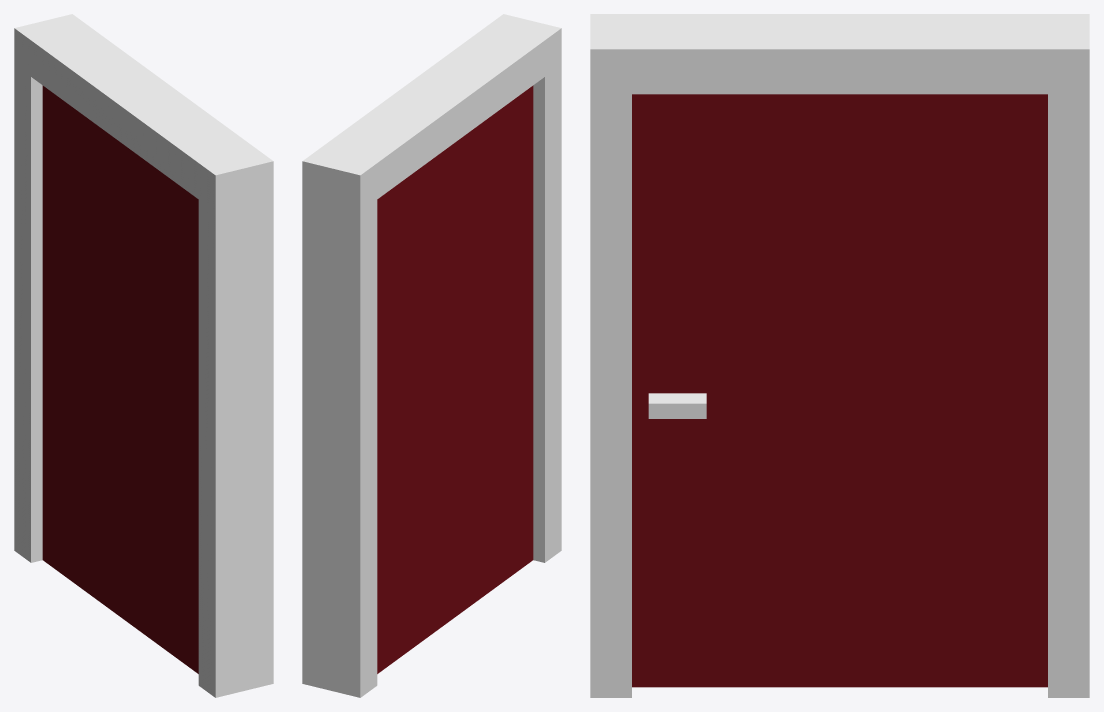
The model's file is door.fbx.
The picture shows the model from 3 angles, left to right: view 1: azimuth 30°, elevation 25°; view 2: azimuth 150°, elevation 25°; view 3: azimuth 270°, elevation 25°; orthographic projection. The views are drawn at different scales.
Visible parts, largest first — view 1: cube_3, cube, cube_2, cube_1; view 2: cube_3, cube_1, cube_2, cube; view 3: cube_3, cube_2, cube, cube_1, cube_4.
Boxes of the visible parts, bbox=[...] form: cube_3: bbox=[42, 85, 198, 673]; cube: bbox=[198, 197, 273, 697]; cube_2: bbox=[14, 14, 273, 211]; cube_1: bbox=[14, 65, 42, 562]; cube_3: bbox=[377, 85, 533, 673]; cube_1: bbox=[302, 197, 377, 697]; cube_2: bbox=[302, 14, 561, 211]; cube: bbox=[533, 65, 561, 562]; cube_3: bbox=[632, 94, 1047, 687]; cube_2: bbox=[590, 14, 1089, 94]; cube: bbox=[590, 94, 631, 697]; cube_1: bbox=[1048, 94, 1089, 697]; cube_4: bbox=[648, 393, 706, 418].
Bounding box in the file's own units: 6.25 × 53.75 × 37.5.
Materials: 1 (1 with a texture image).
